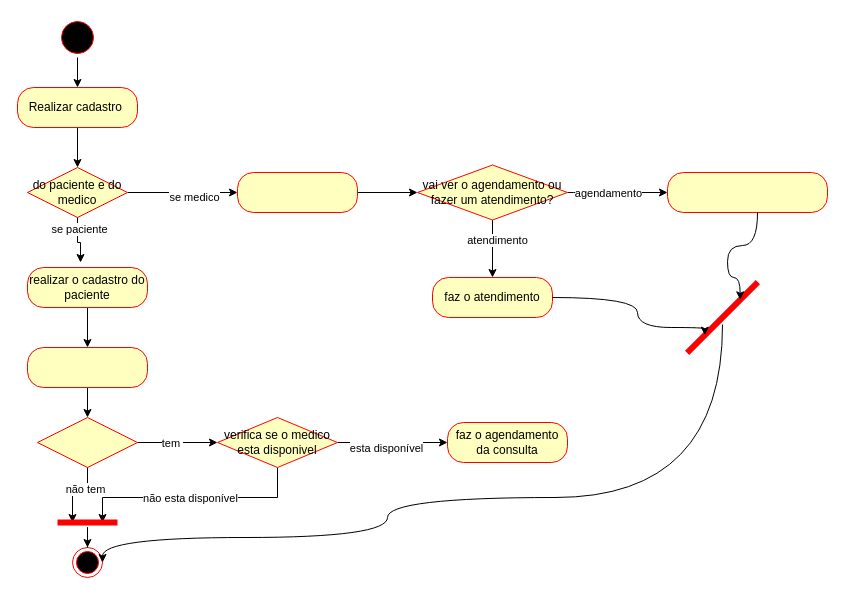
Image size: 845x595. Some labels were removed from this diagram. Each missing label, with the box of its shape:
cadastro do atendimento do paciente: (26, 346, 148, 388)
realizar o cadastro do medico: (236, 172, 358, 212)
verifica se tem horario: (36, 416, 138, 468)
verifica todos os seus horários e seus agendamentos: (666, 172, 828, 212)
